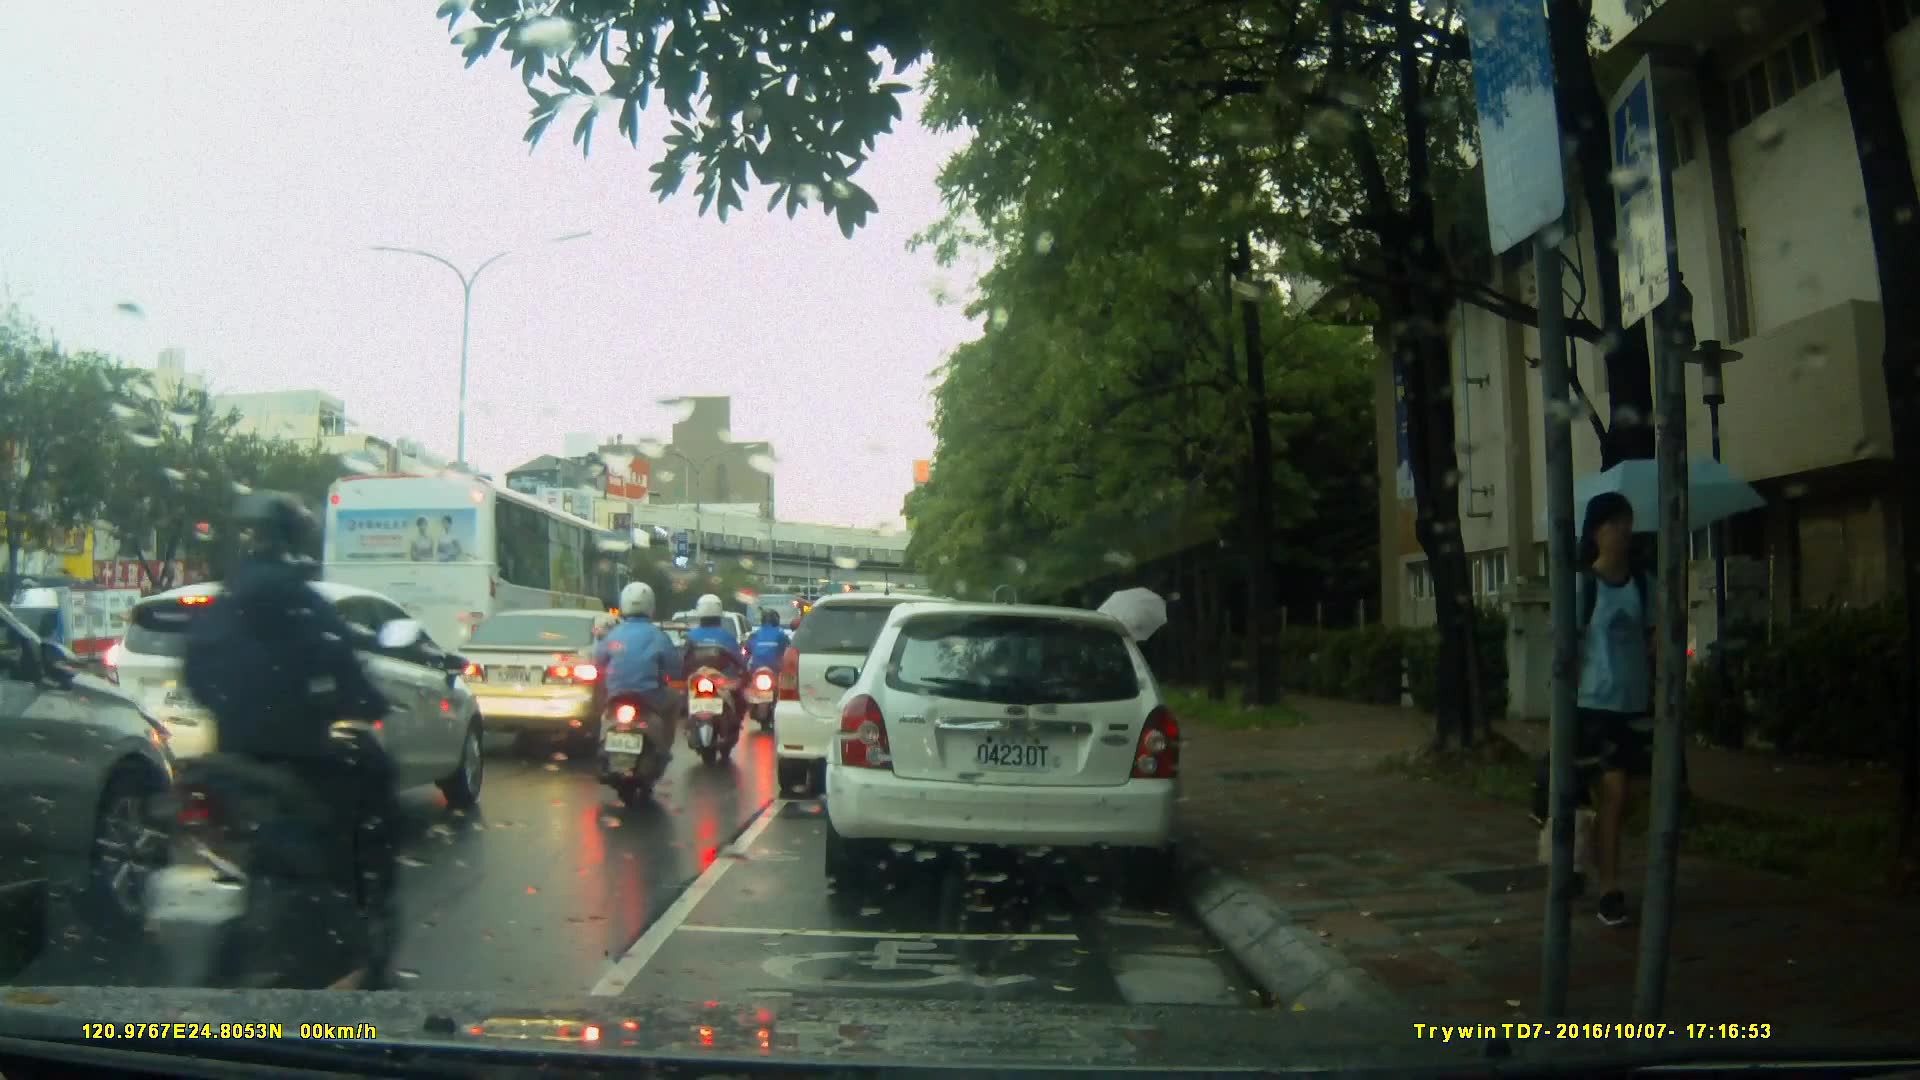pedestrian: (1527, 487, 1685, 943)
rider: (145, 489, 419, 1024), (594, 584, 697, 796), (681, 589, 753, 781), (741, 607, 794, 743)
vehicle: (835, 594, 1194, 898), (101, 576, 489, 846), (318, 471, 635, 729), (1, 547, 184, 971), (776, 590, 1026, 784), (437, 606, 673, 753), (1, 586, 155, 697), (613, 621, 720, 710)
